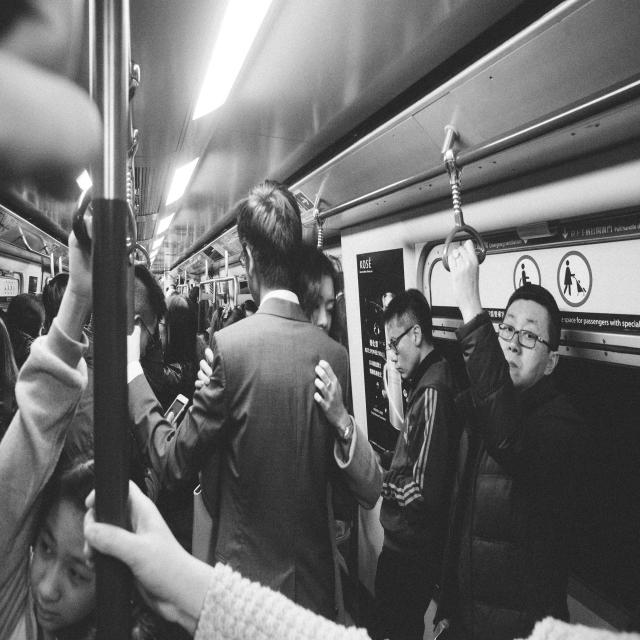body: (125, 177, 354, 626), (192, 246, 384, 628), (423, 237, 577, 639), (79, 464, 376, 640), (0, 196, 109, 638), (361, 286, 463, 640), (13, 257, 99, 640), (55, 262, 180, 512), (153, 273, 261, 345), (508, 596, 638, 638), (160, 290, 207, 364)
